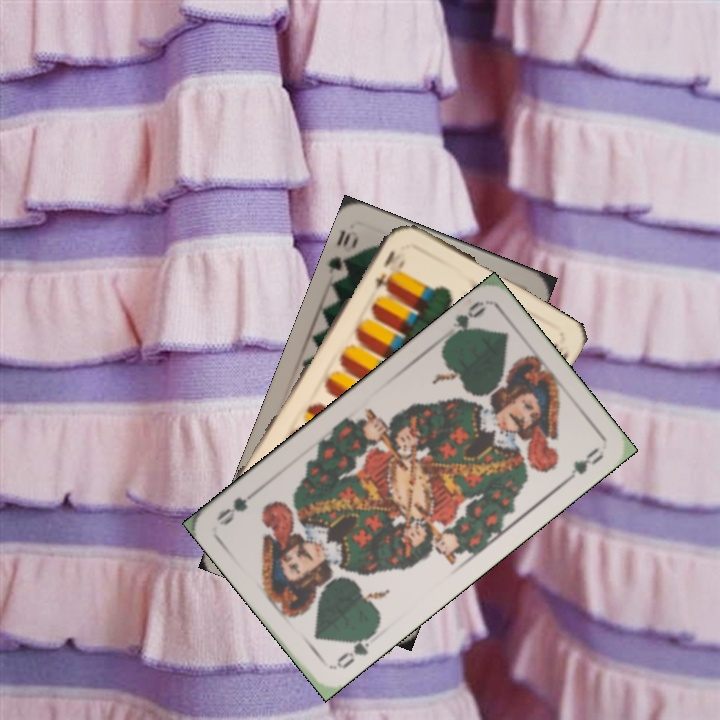E10: (370, 246, 408, 293)
G10: (324, 226, 361, 283)
GO: (440, 296, 489, 344), (330, 629, 378, 672)
